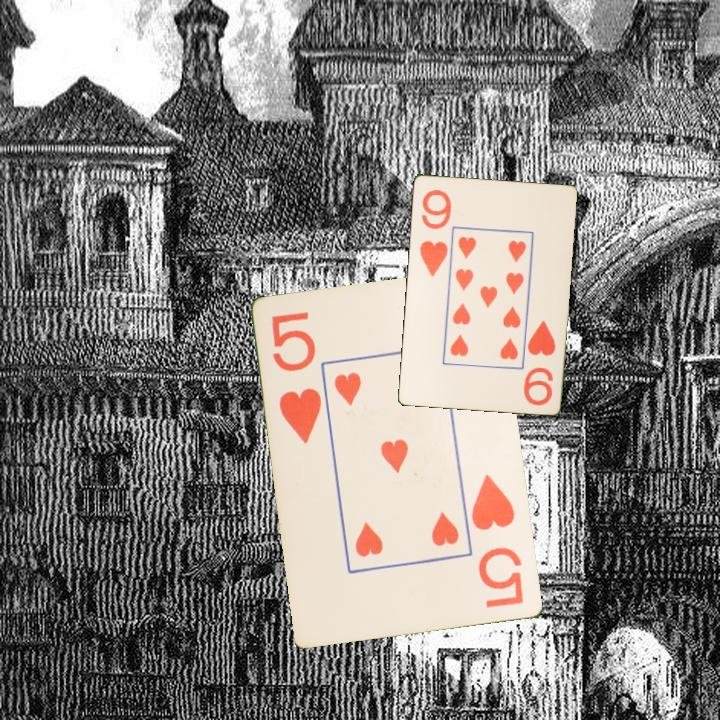5h: (468, 471, 527, 611), (268, 308, 326, 447)
9h: (416, 185, 454, 279), (520, 316, 558, 408)
